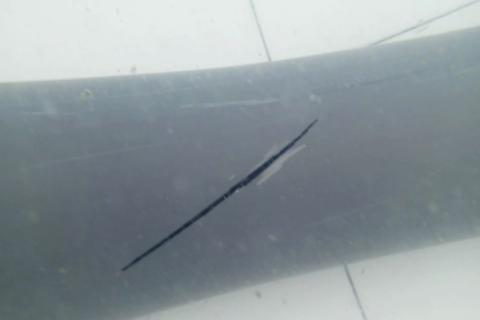keretakan: (121, 117, 320, 271)
